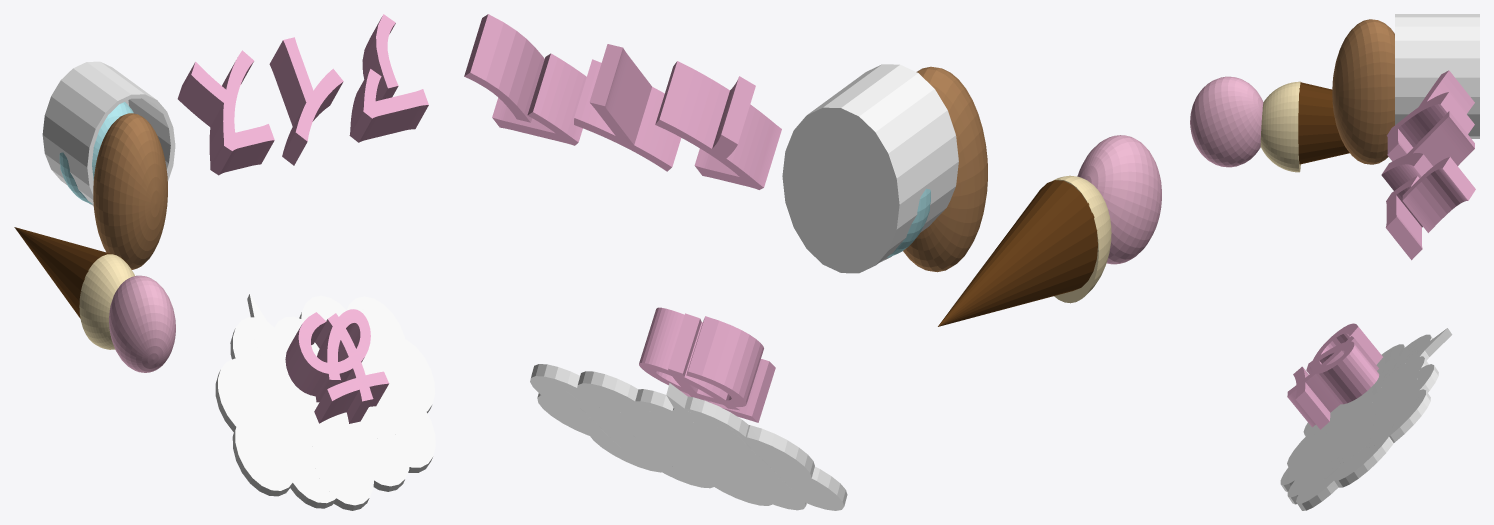
File: tinker.obj
3 views of the same model, side by side, from view 1: azimuth 30°, elevation 25°; view 2: azimuth 150°, elevation 25°; view 3: azimuth 270°, elevation 25° (orthographic). The views are drawn at different scales.
Parts seen in each view (by area): view 1: group_0_16448250, group_0_15708628, group_0_11107152, group_0_15447503, group_0_16311991, group_0_6306067, group_0_11593967; view 2: group_0_16448250, group_0_15708628, group_0_6306067, group_0_11107152, group_0_15447503, group_0_16311991, group_0_11593967; view 3: group_0_16448250, group_0_15708628, group_0_11107152, group_0_15447503, group_0_6306067, group_0_16311991.
Boxes of the visible parts, x1=… form: group_0_16448250: x1=42, y1=61, x2=435, y2=510; group_0_15708628: x1=177, y1=14, x2=428, y2=423; group_0_11107152: x1=93, y1=113, x2=167, y2=269; group_0_15447503: x1=109, y1=275, x2=175, y2=372; group_0_16311991: x1=79, y1=254, x2=134, y2=349; group_0_6306067: x1=14, y1=227, x2=128, y2=318; group_0_11593967: x1=59, y1=102, x2=133, y2=204; group_0_16448250: x1=530, y1=64, x2=958, y2=510; group_0_15708628: x1=464, y1=14, x2=781, y2=422; group_0_6306067: x1=938, y1=180, x2=1097, y2=326; group_0_11107152: x1=903, y1=66, x2=987, y2=272; group_0_15447503: x1=1077, y1=135, x2=1161, y2=264; group_0_16311991: x1=1052, y1=175, x2=1111, y2=303; group_0_11593967: x1=887, y1=188, x2=930, y2=257; group_0_16448250: x1=1280, y1=14, x2=1479, y2=510; group_0_15708628: x1=1287, y1=70, x2=1475, y2=429; group_0_11107152: x1=1332, y1=19, x2=1394, y2=164; group_0_15447503: x1=1190, y1=76, x2=1263, y2=167; group_0_6306067: x1=1298, y1=82, x2=1349, y2=164; group_0_16311991: x1=1260, y1=81, x2=1300, y2=172.
Size of the model in its own units: 30 by 30 by 20.
